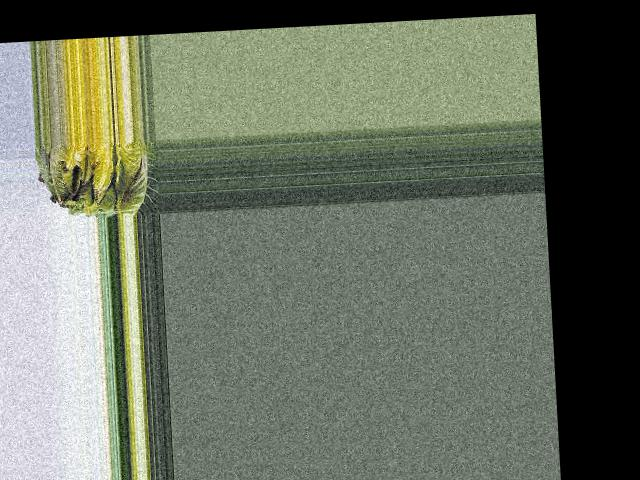lettuce: (38, 139, 159, 217)
